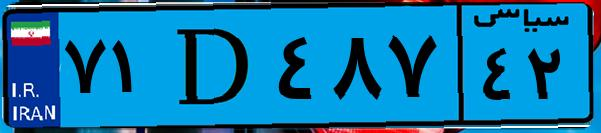1: (110, 28, 158, 98)
2: (525, 38, 570, 115)
4: (270, 28, 330, 110), (475, 38, 525, 113)
7: (385, 28, 445, 110), (57, 26, 110, 100)
8: (330, 28, 385, 110)
D: (158, 12, 270, 120)
